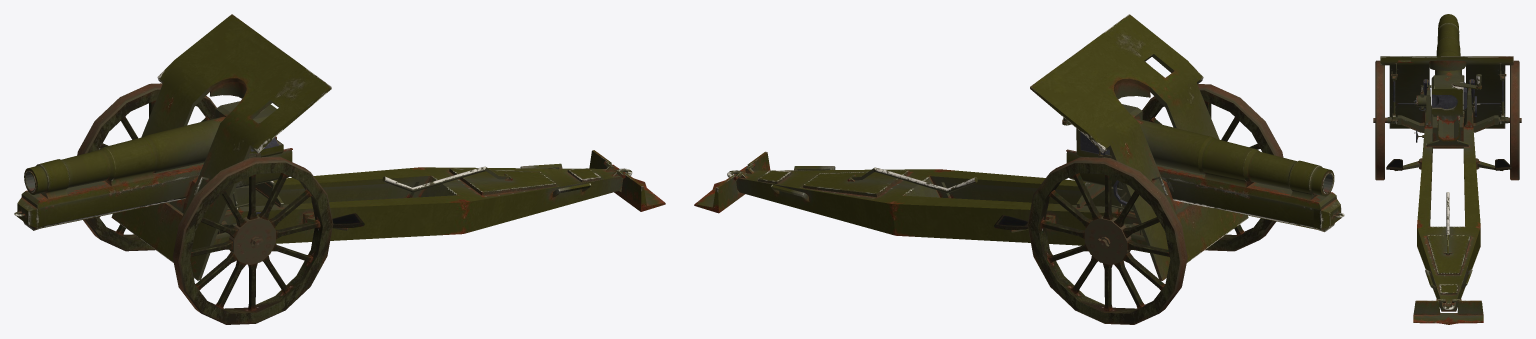
The model's file is turret_cannon.glb.
3 renders of one model, left to right at view 1: azimuth 30°, elevation 25°; view 2: azimuth 150°, elevation 25°; view 3: azimuth 270°, elevation 25°, orthographic. The views are drawn at different scales.
Parts seen in each view (by area): view 1: g; view 2: g; view 3: g.
Boxes of the visible parts, <box> form: g: <box>14,14,665,324</box>; g: <box>694,14,1344,324</box>; g: <box>1373,14,1521,324</box>.
Size of the model in its own units: 2 by 0.6814 by 0.6075.
Materials: 1 (1 with a texture image).
